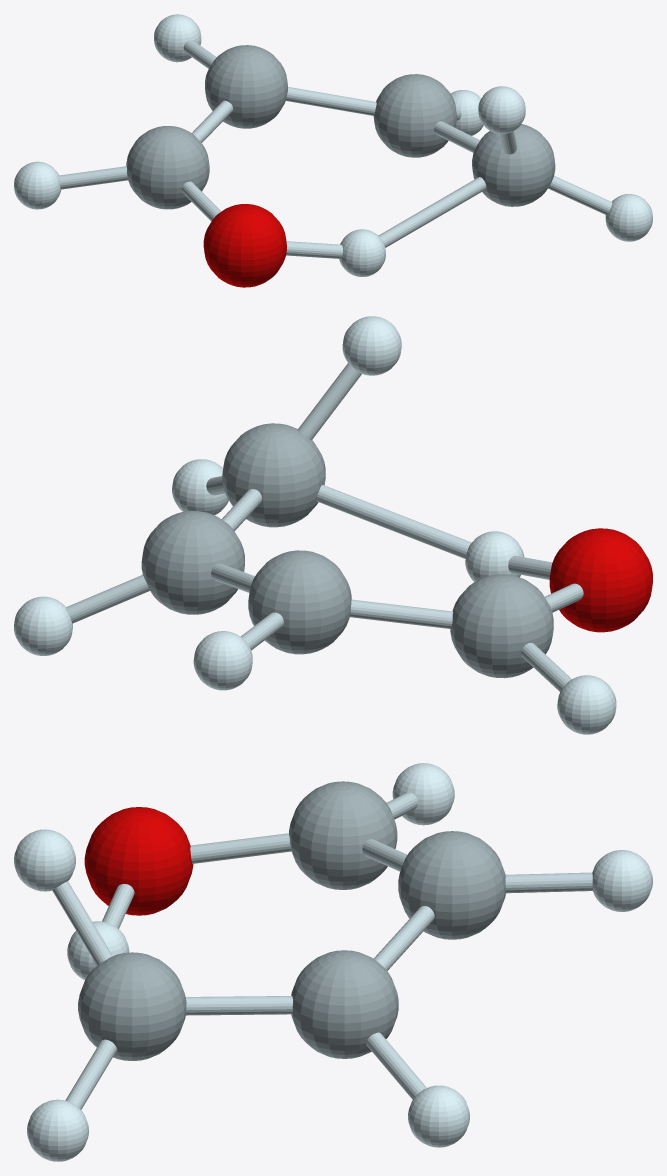
File: irc_054.glb
3 views of the same model, one above another, from view 1: azimuth 30°, elevation 25°; view 2: azimuth 150°, elevation 25°; view 3: azimuth 270°, elevation 25° (orthographic). The views are drawn at different scales.
Parts seen in each view (by area): view 1: Renderer Node; view 2: Renderer Node; view 3: Renderer Node.
Boxes of the visible parts, bbox=[...] form: Renderer Node: bbox=[14, 14, 652, 287]; Renderer Node: bbox=[14, 316, 652, 734]; Renderer Node: bbox=[14, 763, 652, 1161].
Bounding box in the file's own units: 4.74 × 1.72 × 4.11.
